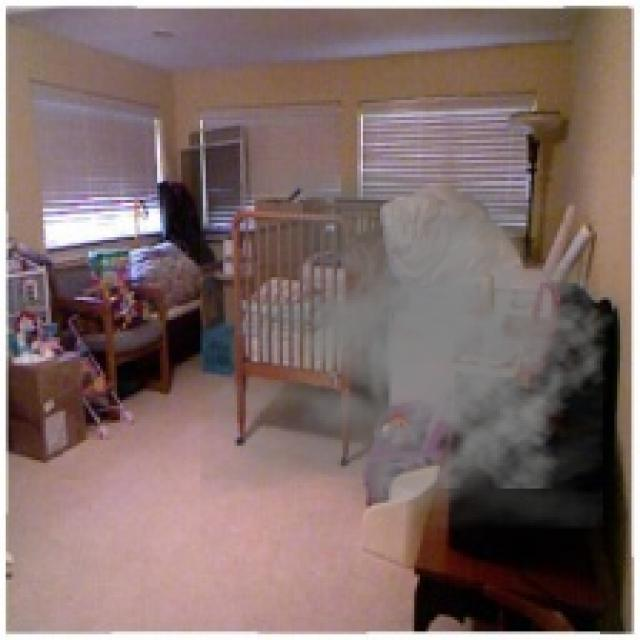Smoke: (200, 162, 617, 528)
